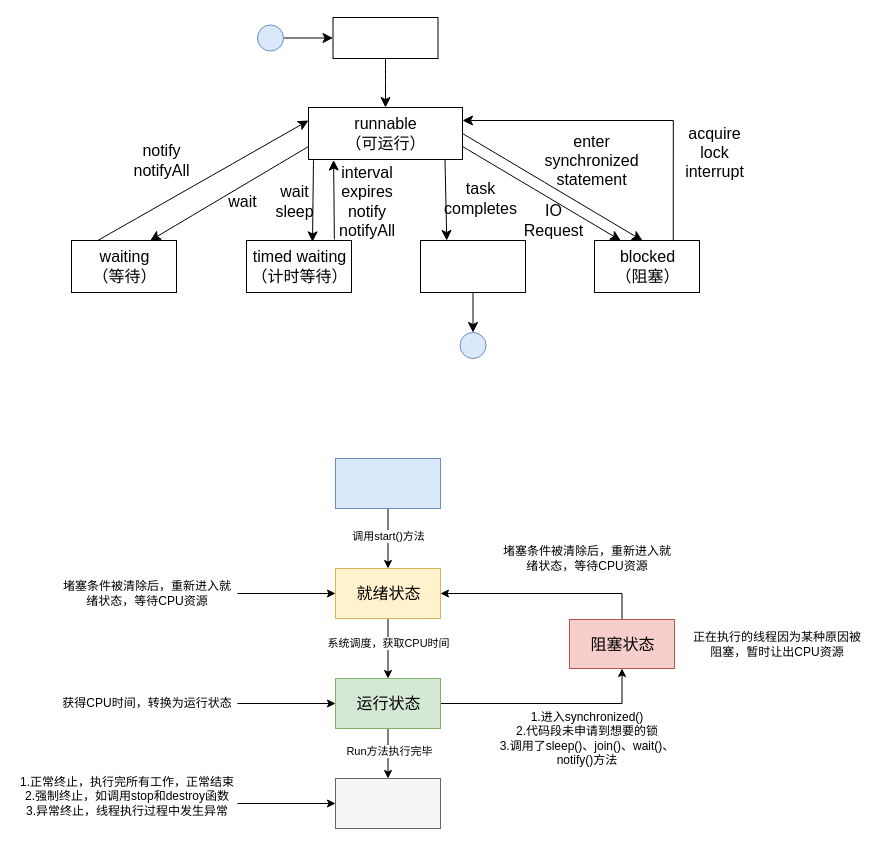
This 884x851 diagram has some shape labels left out. Here are the shapes that lost their labels. From the top down, the centre of each, then its label:
At (385,37): "新建".
At (473,266): "terminated （终止）".
At (387,483): "新建状态".
At (387,803): "死亡状态".
